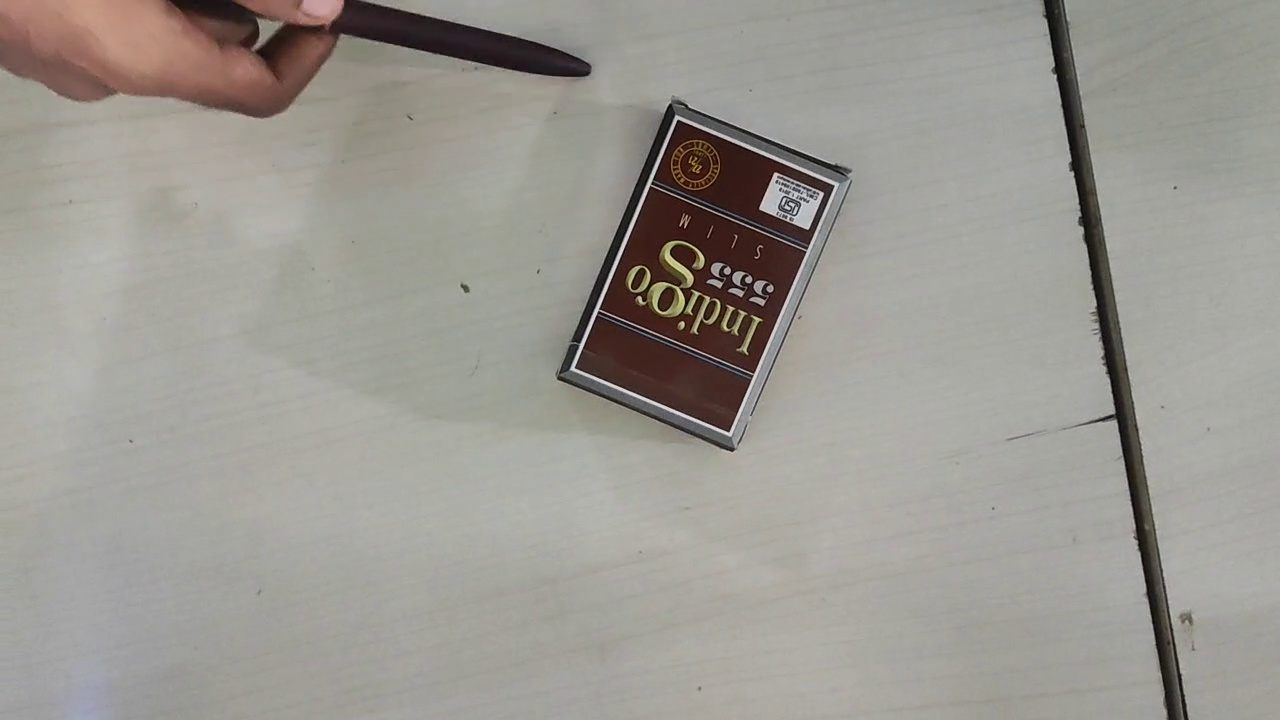BEX: (570, 116, 839, 432)
